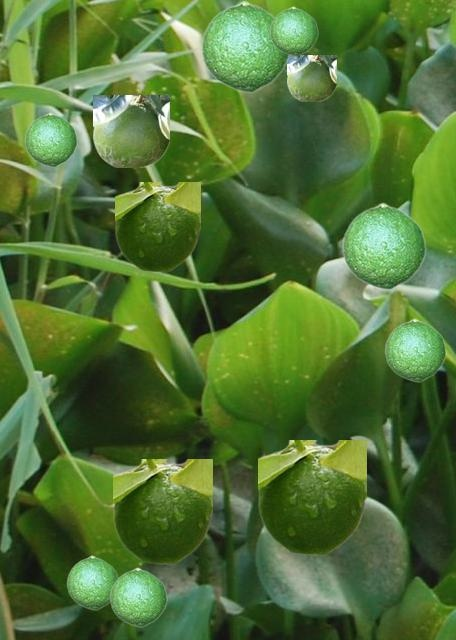dalandan: (258, 440, 365, 554), (113, 459, 211, 563), (200, 0, 289, 92), (115, 182, 199, 271), (341, 202, 425, 289), (93, 95, 168, 166), (384, 318, 445, 381), (109, 567, 166, 626), (66, 555, 118, 609), (24, 112, 76, 166), (269, 6, 317, 55), (287, 55, 335, 100)
